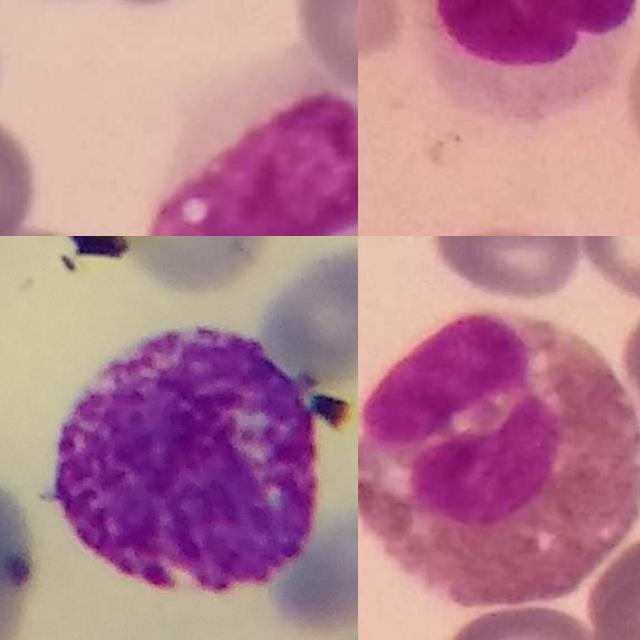Basophil: (51, 322, 322, 594)
Eosinophil: (358, 310, 640, 613)
Lymphocyte: (413, 0, 637, 127)
Monocyte: (152, 58, 358, 236)
